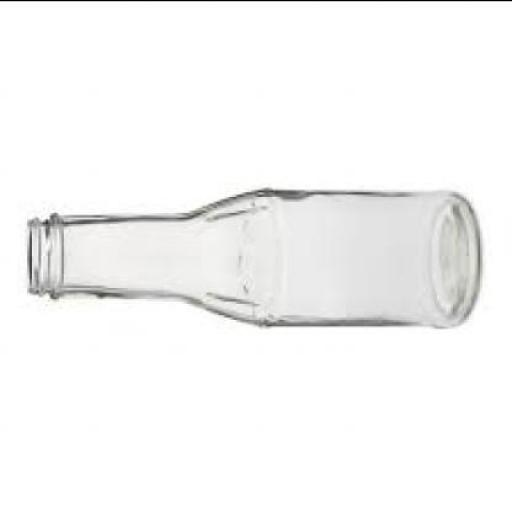glass: (27, 186, 478, 326)
